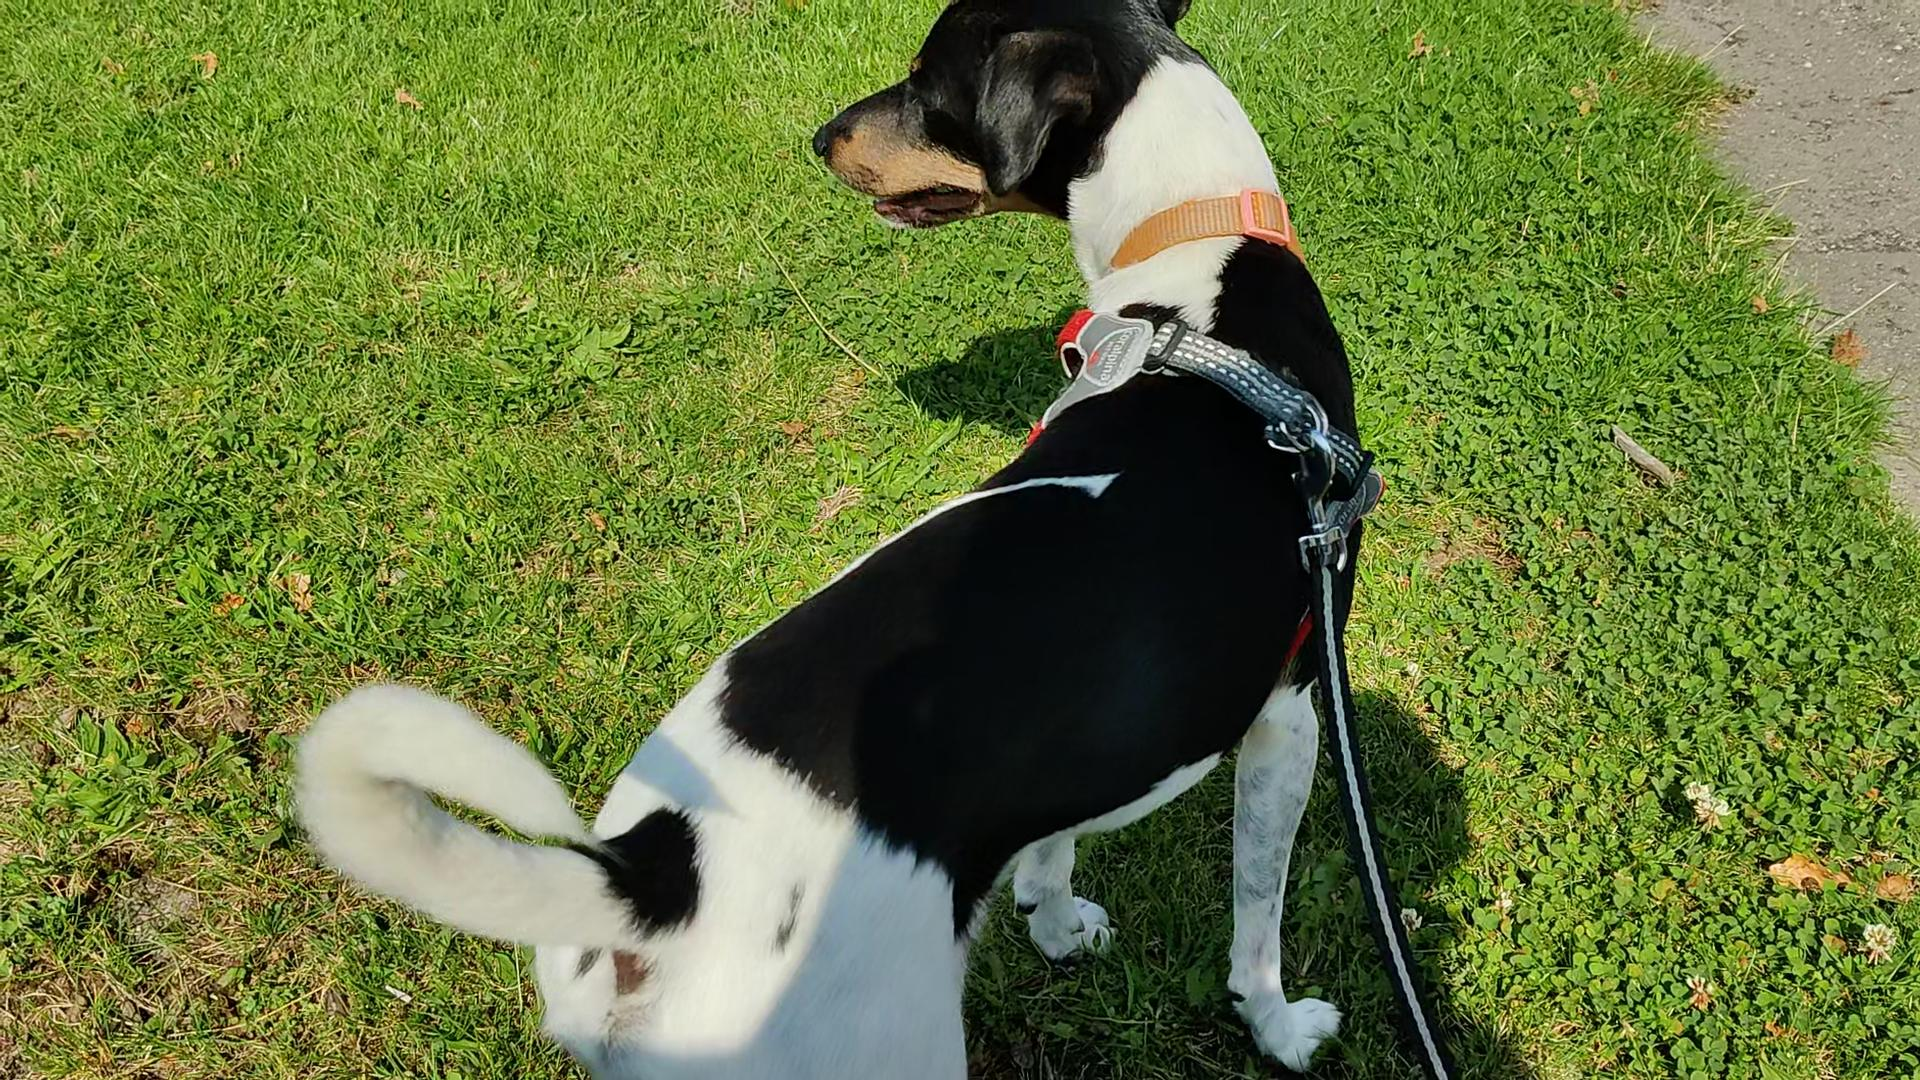Dog: (273, 0, 1386, 1079)
